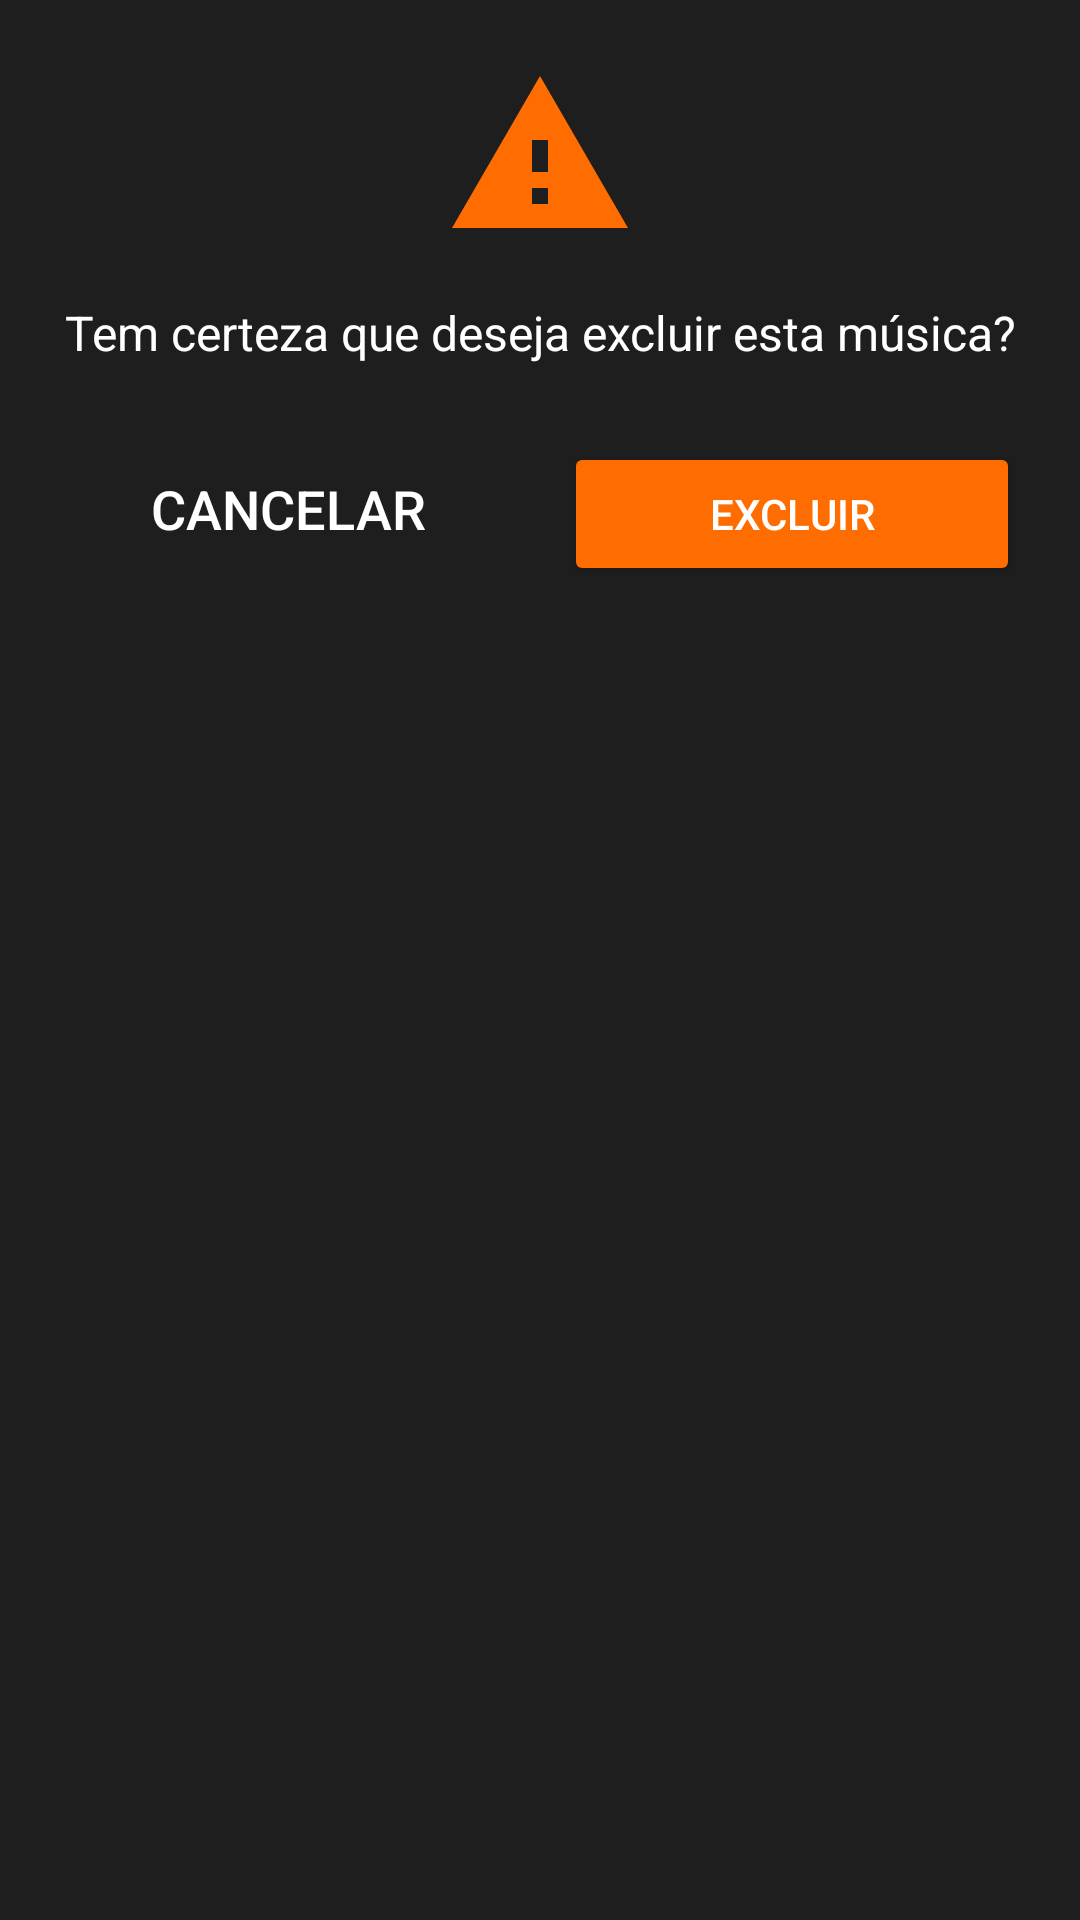

Locate icon controls on the screen. Image size 1080x1920, boxes as (x1, y1, x2, y2).
warning: (452, 76, 628, 228)
